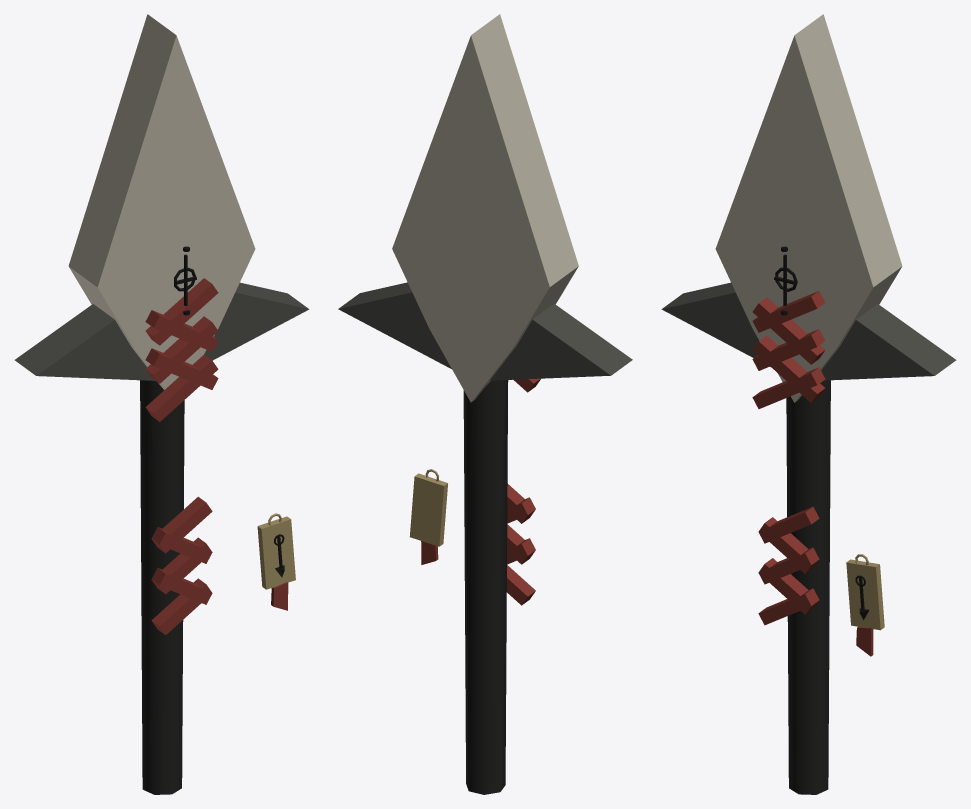
File: fantasy-faceted-warden-spear-v1.glb
3 renders of one model, left to right at view 1: azimuth 30°, elevation 25°; view 2: azimuth 150°, elevation 25°; view 3: azimuth 330°, elevation 25°, orthographic.
Visible parts, largest first — view 1: Warden Spear; view 2: Warden Spear; view 3: Warden Spear.
Boxes of the visible parts, x1,y1,x2,y2 form: Warden Spear: [14, 14, 309, 794]; Warden Spear: [338, 14, 632, 794]; Warden Spear: [661, 14, 956, 794].
Size of the model in its own units: 1.74 by 4.63 by 0.5569.
